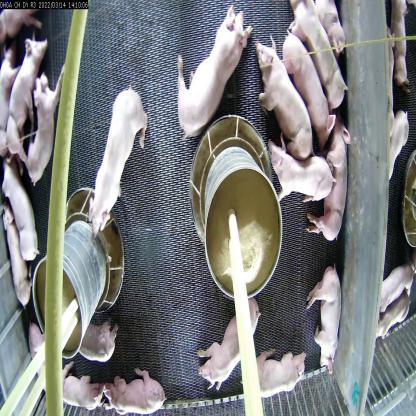Pig: (173, 0, 256, 144), (87, 84, 150, 237), (254, 31, 316, 158), (278, 28, 338, 150), (290, 0, 350, 121), (4, 29, 51, 175), (261, 126, 340, 212), (307, 113, 354, 254), (195, 292, 261, 389), (26, 62, 66, 197), (303, 252, 342, 378), (2, 161, 43, 265), (101, 360, 167, 415), (1, 206, 35, 312), (248, 343, 308, 402), (58, 354, 104, 413), (376, 250, 415, 317), (77, 312, 121, 366), (389, 0, 413, 91)
